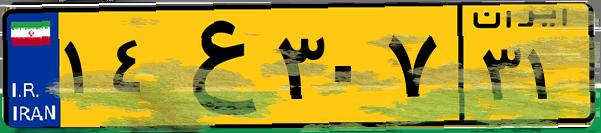0: (330, 28, 385, 110)
1: (57, 26, 110, 100), (525, 38, 570, 115)
3: (270, 28, 330, 110), (475, 38, 525, 113)
4: (110, 28, 158, 98)
7: (385, 28, 445, 110)
ع: (158, 12, 270, 120)
